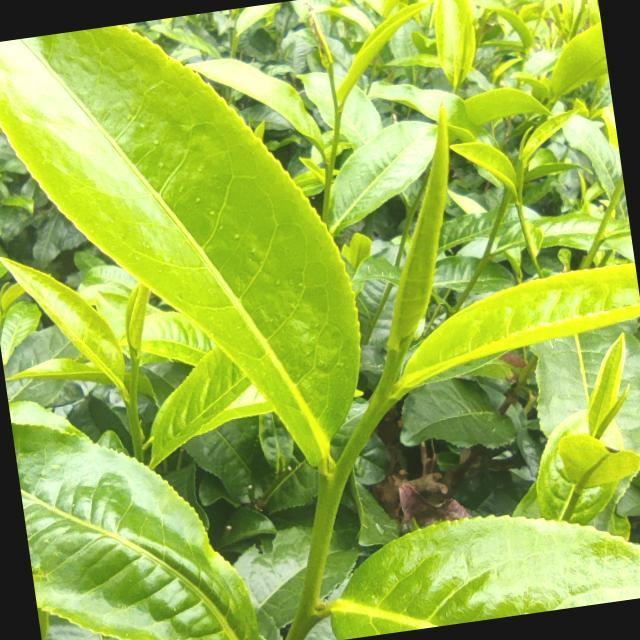Stem: (321, 471, 342, 501), (127, 400, 136, 410), (334, 111, 341, 118), (516, 202, 521, 208)
